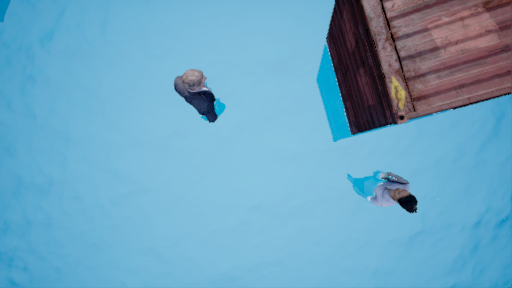person: (350, 170, 428, 229), (164, 67, 223, 119)
